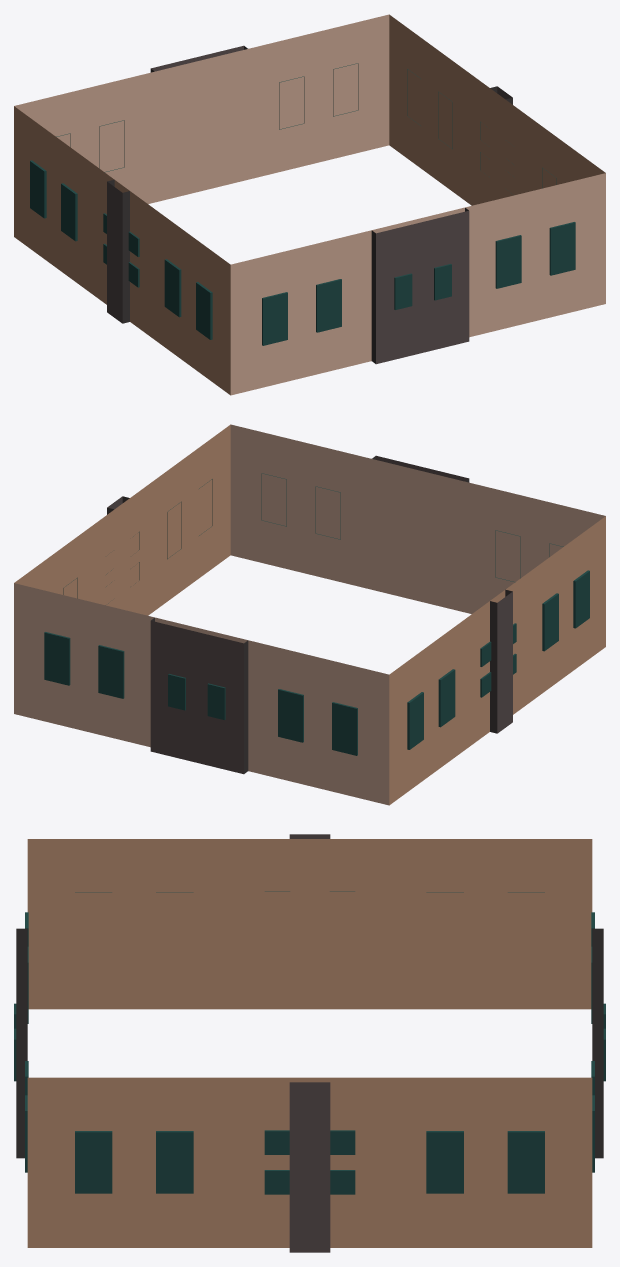
The model's file is TB_CITY_Skysc_Q_MidBodyA_Brown.FBX.
3 views of the same model, one above another, from view 1: azimuth 30°, elevation 25°; view 2: azimuth 150°, elevation 25°; view 3: azimuth 270°, elevation 25° (orthographic). The views are drawn at different scales.
Parts seen in each view (by area): view 1: TB_CITY_Skysc_Q_MidBodyA_Brown; view 2: TB_CITY_Skysc_Q_MidBodyA_Brown; view 3: TB_CITY_Skysc_Q_MidBodyA_Brown.
Boxes of the visible parts, <box> form: TB_CITY_Skysc_Q_MidBodyA_Brown: <box>14,14,605,395</box>; TB_CITY_Skysc_Q_MidBodyA_Brown: <box>14,424,605,805</box>; TB_CITY_Skysc_Q_MidBodyA_Brown: <box>14,834,605,1252</box>.
Size of the model in its own units: 15.6 by 5 by 15.73.
